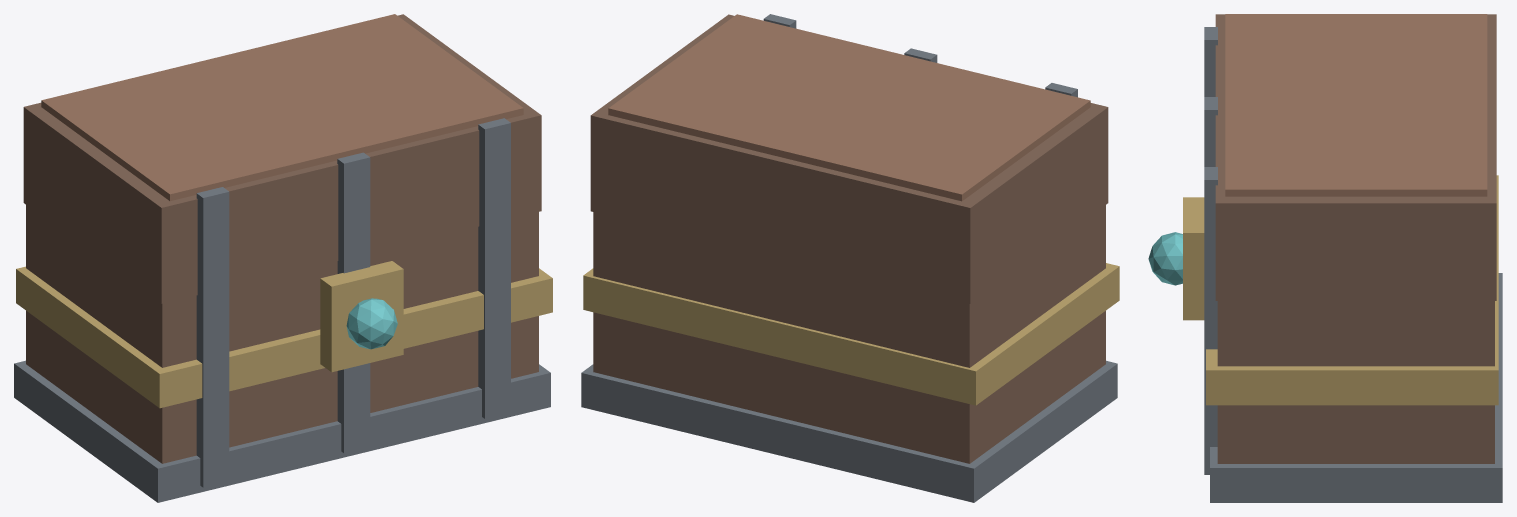
The model's file is loot_ashen_chest.glb.
3 renders of one model, left to right at view 1: azimuth 30°, elevation 25°; view 2: azimuth 150°, elevation 25°; view 3: azimuth 270°, elevation 25°, orthographic.
Parts seen in each view (by area): view 1: lid_top, chest_base, lid_core, chest_bottom_band, chest_mid_band, front_strap_0.43, lock_plate, front_strap_-0.43, lid_strap_-0.43, lid_strap_0.43, lid_strap_0, front_strap_0 (+1 smaller); view 2: chest_base, lid_core, lid_top, chest_bottom_band, chest_mid_band; view 3: lid_top, chest_base, lid_core, chest_bottom_band, chest_mid_band, lock_plate, lid_strap_0.43, front_strap_0.43, lock_gem, lid_strap_-0.43, lid_strap_0.
Boxes of the visible parts, x1,y1,x2,y2 form: lid_top: (41, 14, 523, 201); chest_base: (26, 205, 538, 463); lid_core: (23, 14, 541, 303); chest_bottom_band: (14, 360, 550, 502); chest_mid_band: (16, 266, 552, 408); front_strap_0.43: (478, 201, 510, 418); lock_plate: (320, 261, 403, 372); front_strap_-0.43: (196, 269, 229, 487); lid_strap_-0.43: (196, 187, 229, 317); lid_strap_0.43: (478, 118, 510, 247); lid_strap_0: (337, 152, 370, 273); front_strap_0: (337, 237, 370, 453); chest_base: (593, 205, 1105, 463); lid_core: (590, 14, 1108, 303); lid_top: (608, 14, 1090, 201); chest_bottom_band: (581, 360, 1117, 502); chest_mid_band: (583, 263, 1119, 405); lid_top: (1225, 14, 1487, 196); chest_base: (1217, 301, 1494, 463); lid_core: (1215, 14, 1496, 300); chest_bottom_band: (1210, 273, 1502, 502); chest_mid_band: (1206, 175, 1498, 405); lock_plate: (1183, 197, 1204, 320); lid_strap_0.43: (1204, 167, 1217, 302); front_strap_0.43: (1204, 259, 1217, 474); lock_gem: (1148, 232, 1182, 285); lid_strap_-0.43: (1204, 27, 1217, 96); lid_strap_0: (1204, 97, 1217, 166).
Bounding box in the file's own units: 1.2 × 0.875 × 0.92.
